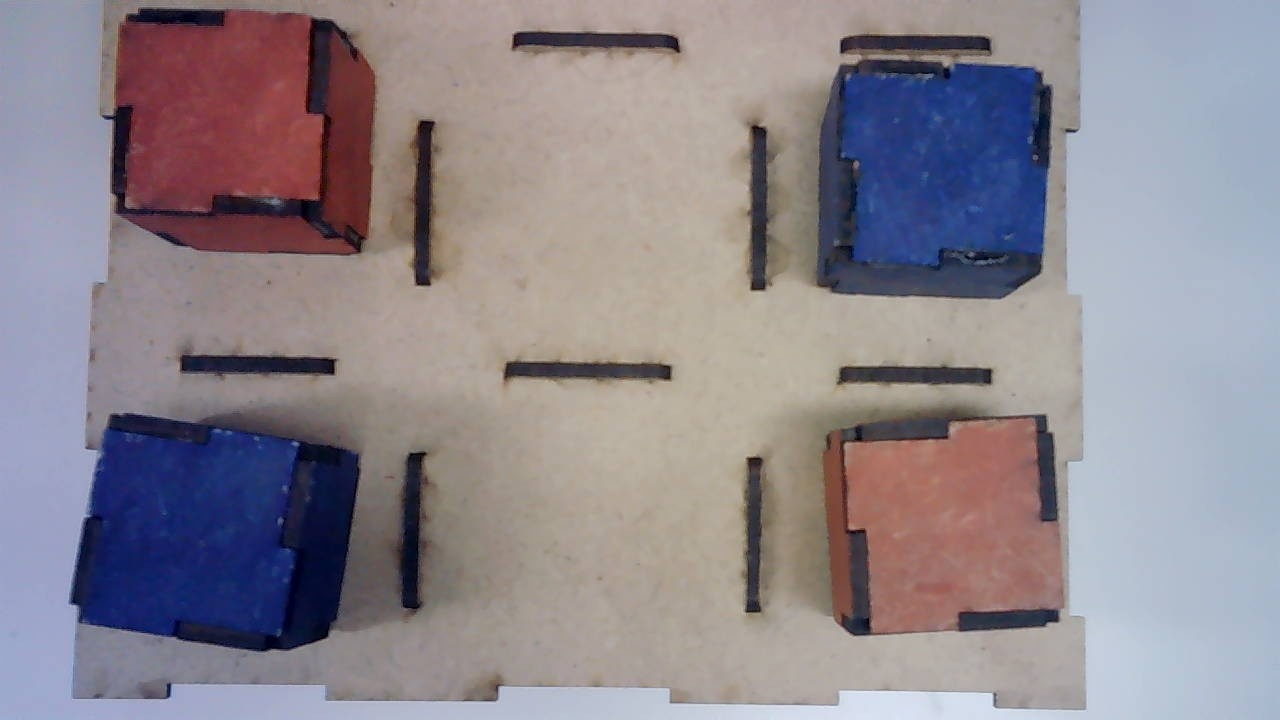blue box: (71, 413, 359, 655), (818, 61, 1045, 297)
red box: (110, 7, 373, 258), (819, 412, 1070, 644)
